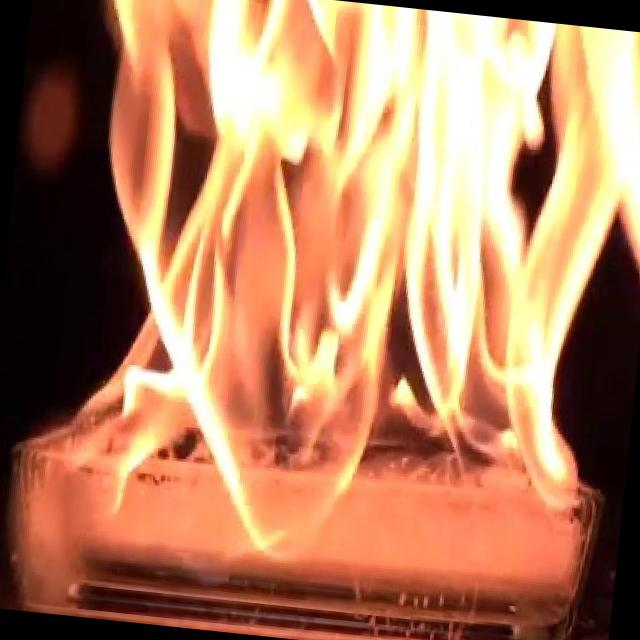Fire: (42, 0, 640, 590)
